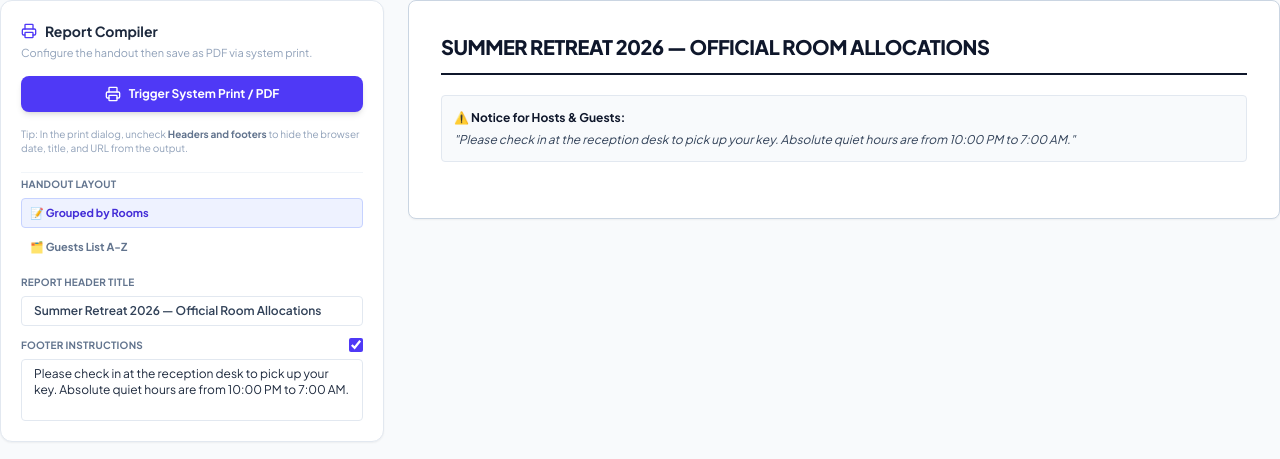
Scenario: PrintReport — footer instructions toggle › hides footer instructions from the report when toggle is turned off
Click the checkbox named "footer instructions" at (356, 345), box [349,338,363,352]
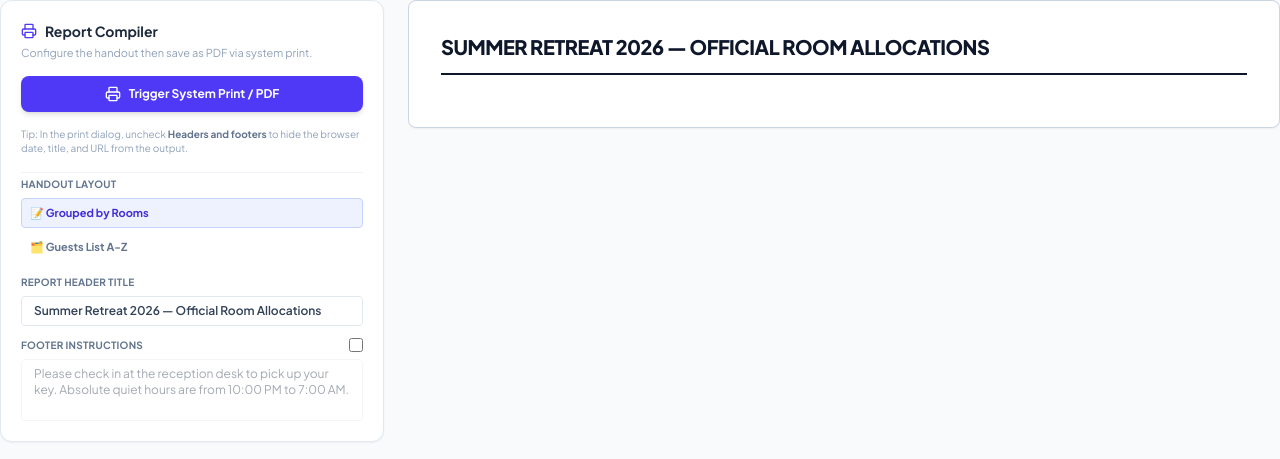
Expected: the text "Notice for Hosts & Guests" is gone
